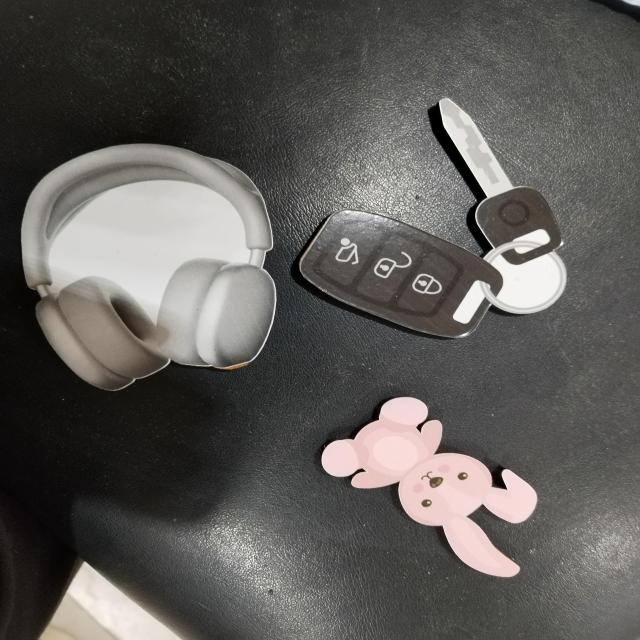Other Objects: (19, 141, 277, 392), (320, 395, 538, 578), (0, 0, 0, 0)
